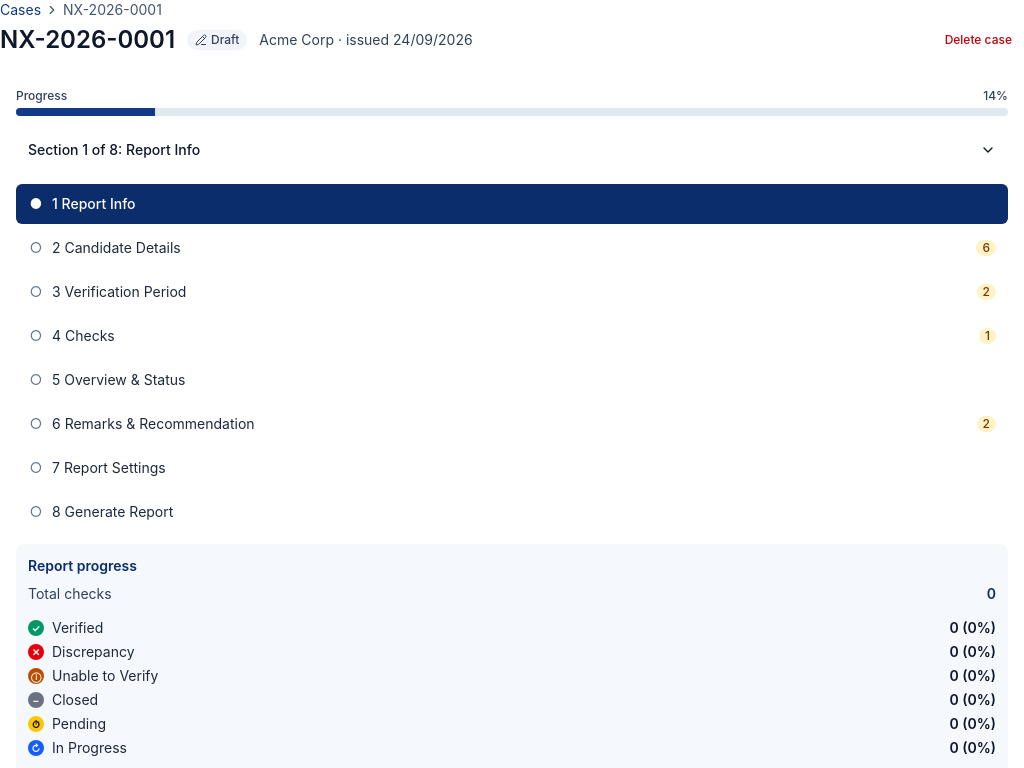
Test: CaseWorkspacePage › shows the server's reason inside the dialog when a case cannot be deleted
This screenshot has width=1024, height=768.
Step 1. Click the button "Delete case" → (978, 40), box [933,24,1023,56]
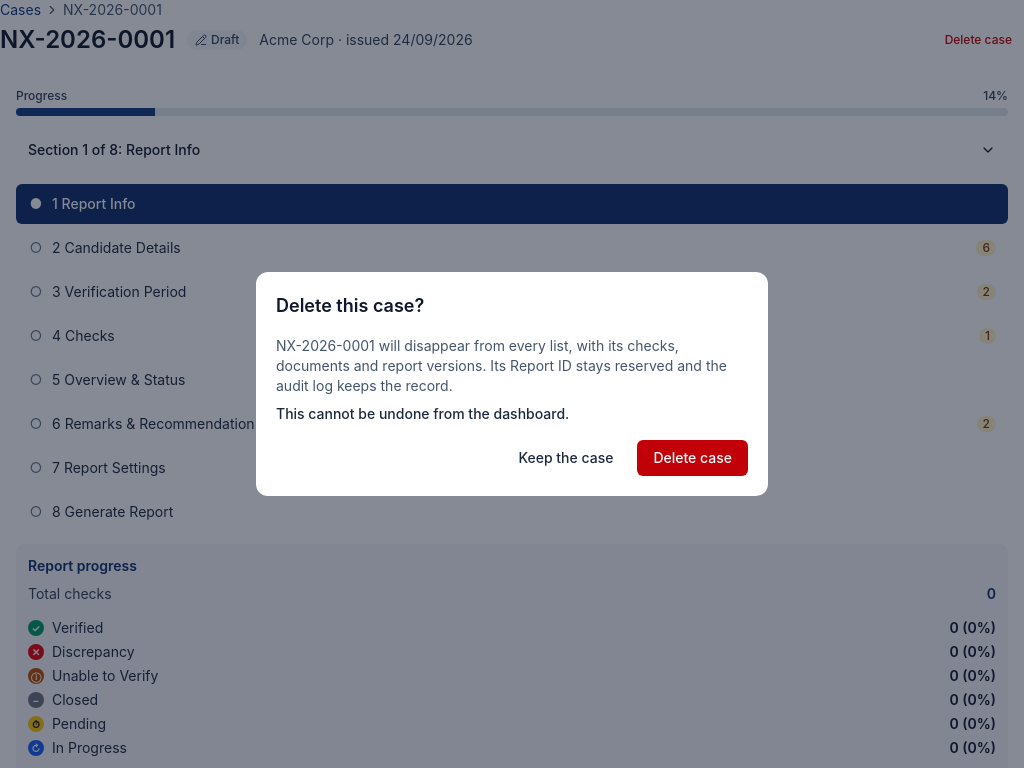
Step 2. Click the button "Delete case" → (693, 458), box [637,440,748,476]
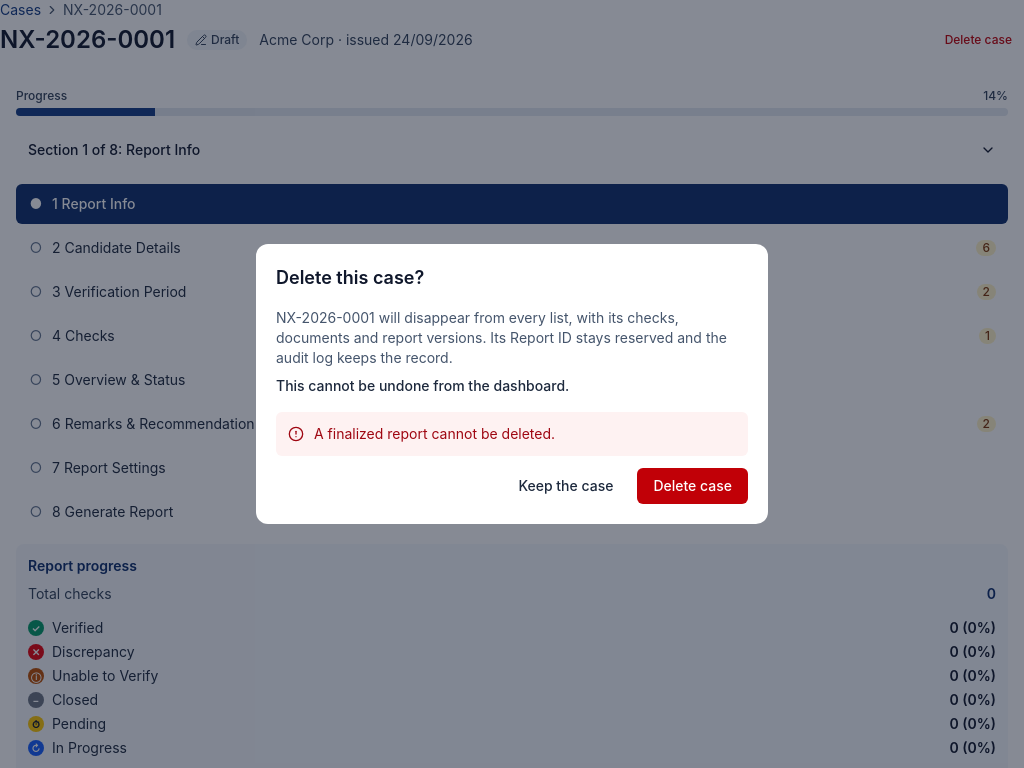
Check: the text "A finalized report cannot be deleted." is shown, box [314,425,555,442]
